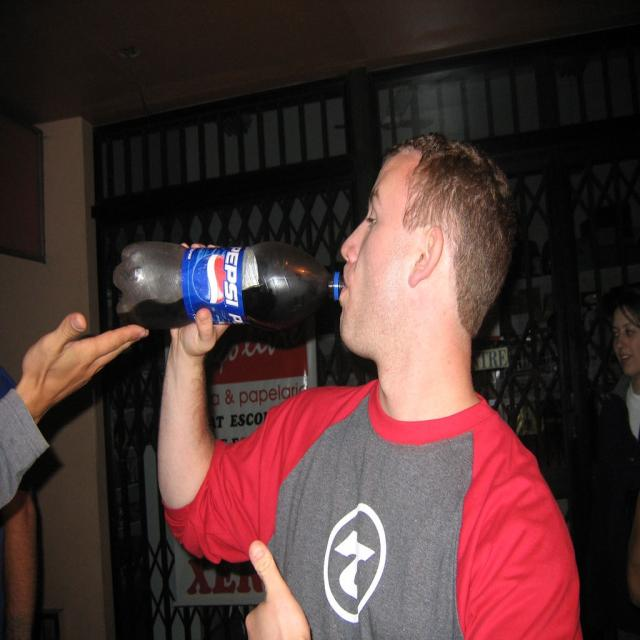pepsi: (189, 254, 229, 306)
